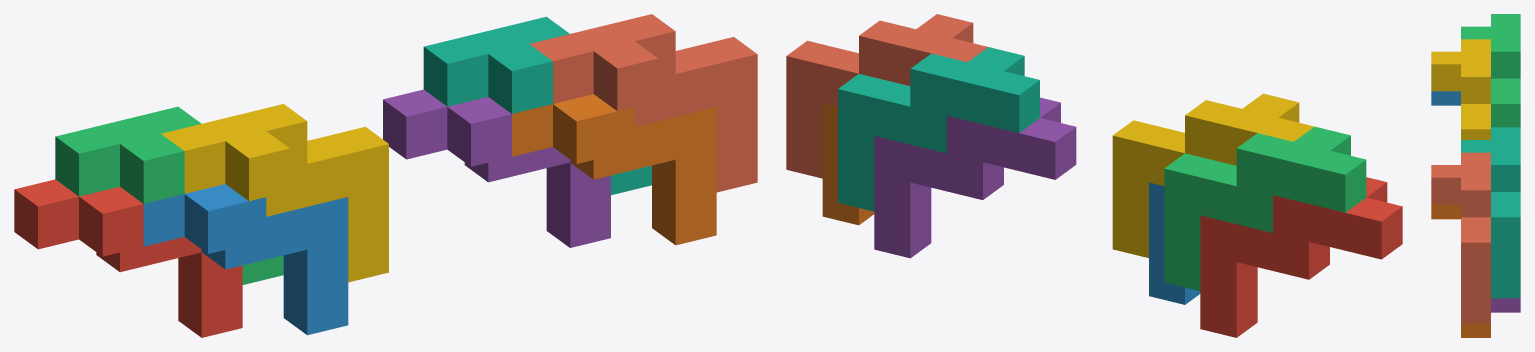
The model's file is tiling.obj.
The picture shows the model from 3 angles, left to right: view 1: azimuth 30°, elevation 25°; view 2: azimuth 150°, elevation 25°; view 3: azimuth 270°, elevation 25°; orthographic projection. The views are drawn at different scales.
Parts seen in each view (by area): view 1: copy_1_domain_8, copy_1_domain_4, copy_1_domain_2, copy_1_domain_6, copy_1_domain_1, copy_1_domain_5, copy_1_domain_3, copy_1_domain_7; view 2: copy_1_domain_3, copy_1_domain_7, copy_1_domain_5, copy_1_domain_1, copy_1_domain_4, copy_1_domain_8, copy_1_domain_6, copy_1_domain_2; view 3: copy_1_domain_8, copy_1_domain_7, copy_1_domain_4, copy_1_domain_3, copy_1_domain_6, copy_1_domain_2, copy_1_domain_5.
Part boxes in pixels (x1,y1,x2,y2): copy_1_domain_8: (530, 14, 757, 192); copy_1_domain_4: (161, 104, 388, 282); copy_1_domain_2: (143, 184, 348, 335); copy_1_domain_6: (512, 94, 716, 245); copy_1_domain_1: (14, 179, 242, 337); copy_1_domain_5: (383, 89, 610, 247); copy_1_domain_3: (55, 106, 283, 284); copy_1_domain_7: (423, 16, 651, 195); copy_1_domain_3: (1164, 126, 1366, 290); copy_1_domain_7: (838, 47, 1039, 211); copy_1_domain_5: (874, 97, 1076, 258); copy_1_domain_1: (1200, 177, 1402, 337); copy_1_domain_4: (1112, 93, 1314, 257); copy_1_domain_8: (786, 14, 987, 178); copy_1_domain_6: (822, 103, 874, 225); copy_1_domain_2: (1149, 182, 1200, 304); copy_1_domain_8: (1431, 152, 1490, 323); copy_1_domain_7: (1461, 127, 1520, 298); copy_1_domain_4: (1431, 39, 1490, 139); copy_1_domain_3: (1461, 14, 1520, 127); copy_1_domain_6: (1431, 204, 1490, 337); copy_1_domain_2: (1431, 91, 1460, 105); copy_1_domain_5: (1491, 298, 1520, 312).
Size of the model in its own units: 17 by 5 by 3.
